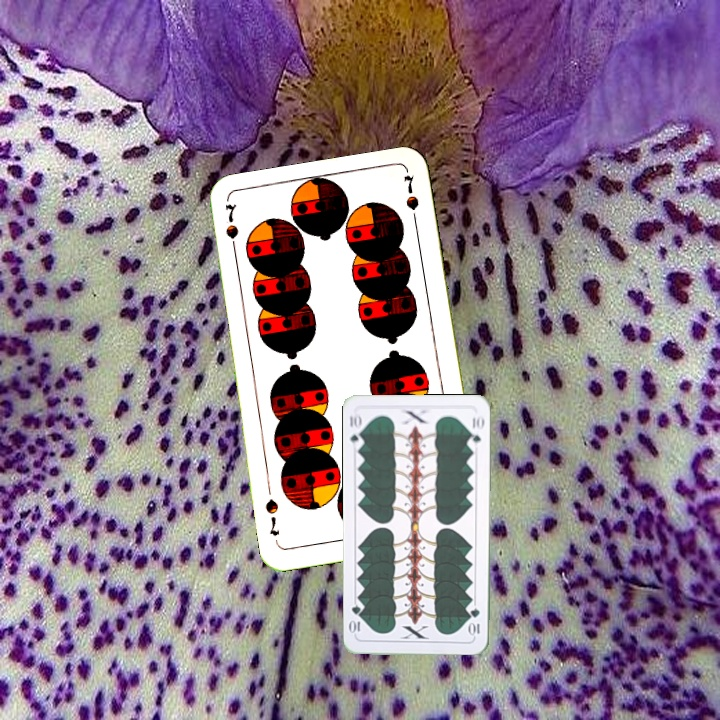G10: (346, 410, 365, 450), (467, 604, 482, 638)
S7: (221, 199, 241, 259)
